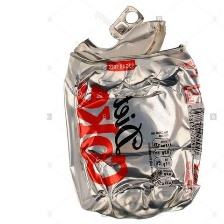can: (57, 3, 208, 221)
